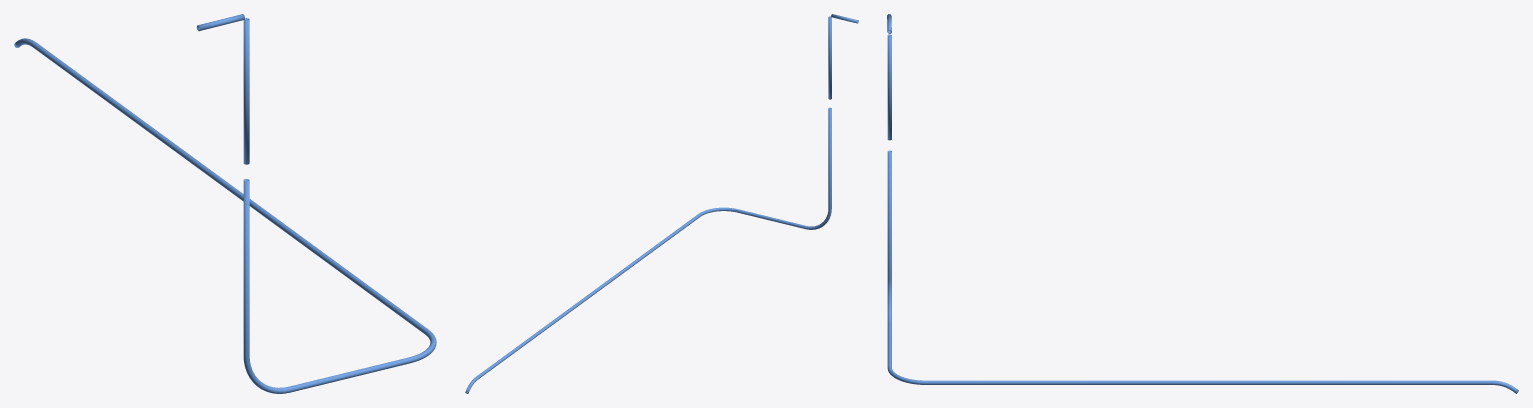
File: pipes_supply__water_heater__2fd0fe3a.glb
The picture shows the model from 3 angles, left to right: view 1: azimuth 30°, elevation 25°; view 2: azimuth 150°, elevation 25°; view 3: azimuth 270°, elevation 25°; orthographic projection. The views are drawn at different scales.
Parts seen in each view (by area): view 1: pipe_supply_cold_riser__pex; view 2: pipe_supply_cold_riser__pex; view 3: pipe_supply_cold_riser__pex.
Part boxes in pixels (x1,y1,x2,y2): pipe_supply_cold_riser__pex: (14,14,436,393); pipe_supply_cold_riser__pex: (465,14,858,393); pipe_supply_cold_riser__pex: (887,14,1518,393).
Bounding box in the file's own units: 1.07 × 1.6 × 3.16.
